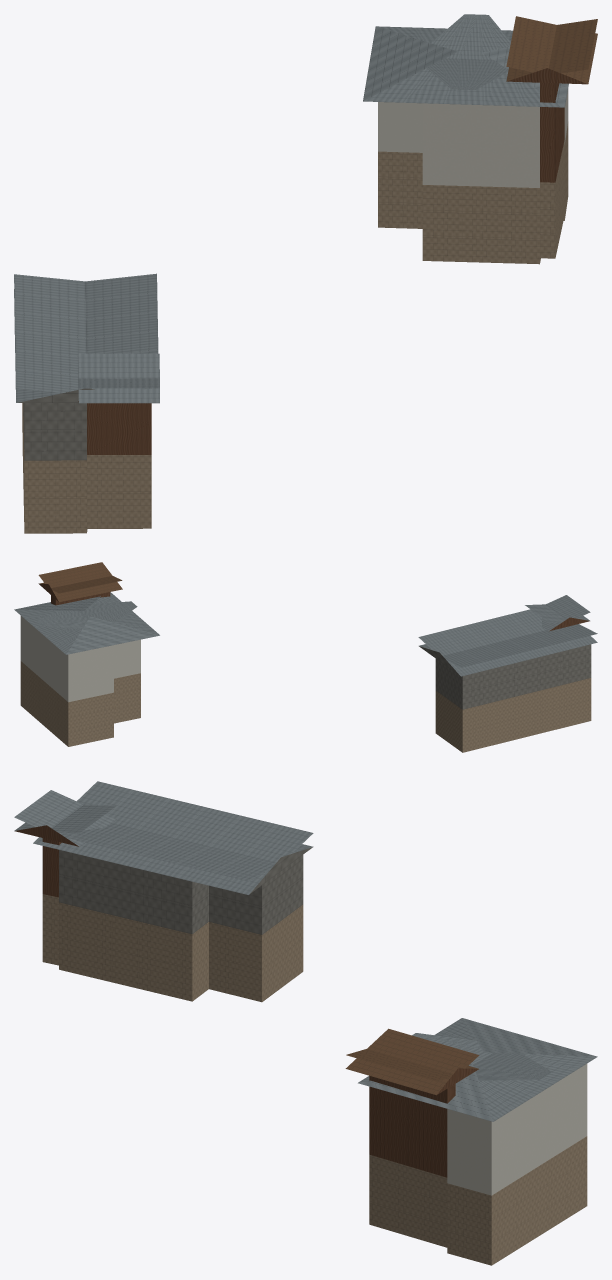
The model's file is bld_c15_38_411.gltf.
The picture shows the model from 3 angles, top to bottom: view 1: azimuth 30°, elevation 25°; view 2: azimuth 150°, elevation 25°; view 3: azimuth 270°, elevation 25°; orthographic projection. The views are drawn at different scales.
Visible parts, largest first — view 1: bld_c15_38_411; view 2: bld_c15_38_411; view 3: bld_c15_38_411.
Part boxes in pixels (box(x1,y1,x2,y2)): bld_c15_38_411: box(14, 14, 597, 533); bld_c15_38_411: box(14, 562, 597, 752); bld_c15_38_411: box(14, 781, 597, 1265).
Bounding box in the file's own units: 54.48 × 13.4 × 38.53.
8 materials, 8 textured.
